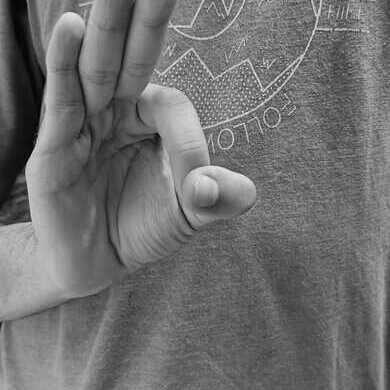F: (23, 1, 260, 300)
